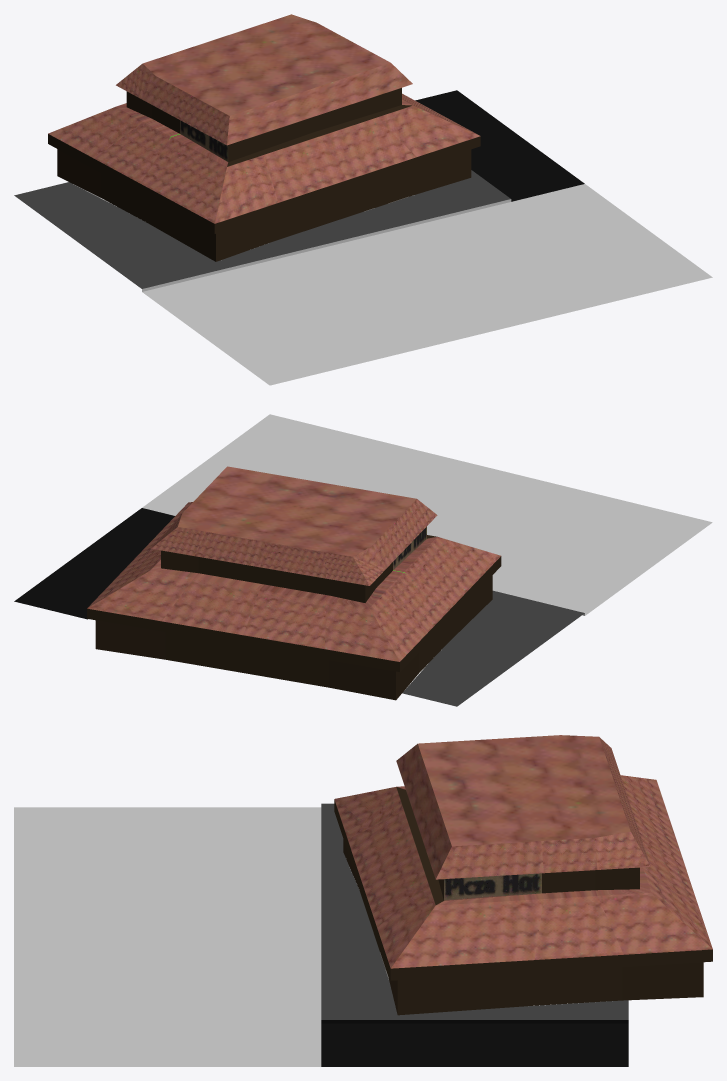
The model's file is 09_phut_n.obj.
The picture shows the model from 3 angles, top to bottom: view 1: azimuth 30°, elevation 25°; view 2: azimuth 150°, elevation 25°; view 3: azimuth 270°, elevation 25°; orthographic projection. The views are drawn at different scales.
Parts seen in each view (by area): view 1: 09_phut_n_Grid.009, 0A_phut_s.001_Grid.006; view 2: 0A_phut_s.001_Grid.006, 09_phut_n_Grid.009; view 3: 09_phut_n_Grid.009, 0A_phut_s.001_Grid.006.
Part boxes in pixels (x1,y1,x2,y2): 09_phut_n_Grid.009: (14, 90, 712, 385); 0A_phut_s.001_Grid.006: (48, 14, 480, 261); 0A_phut_s.001_Grid.006: (87, 466, 501, 700); 09_phut_n_Grid.009: (14, 414, 712, 706); 09_phut_n_Grid.009: (14, 803, 628, 1066); 0A_phut_s.001_Grid.006: (334, 735, 712, 1015).
Bounding box in the file's own units: 16 × 3.98 × 18.2.
